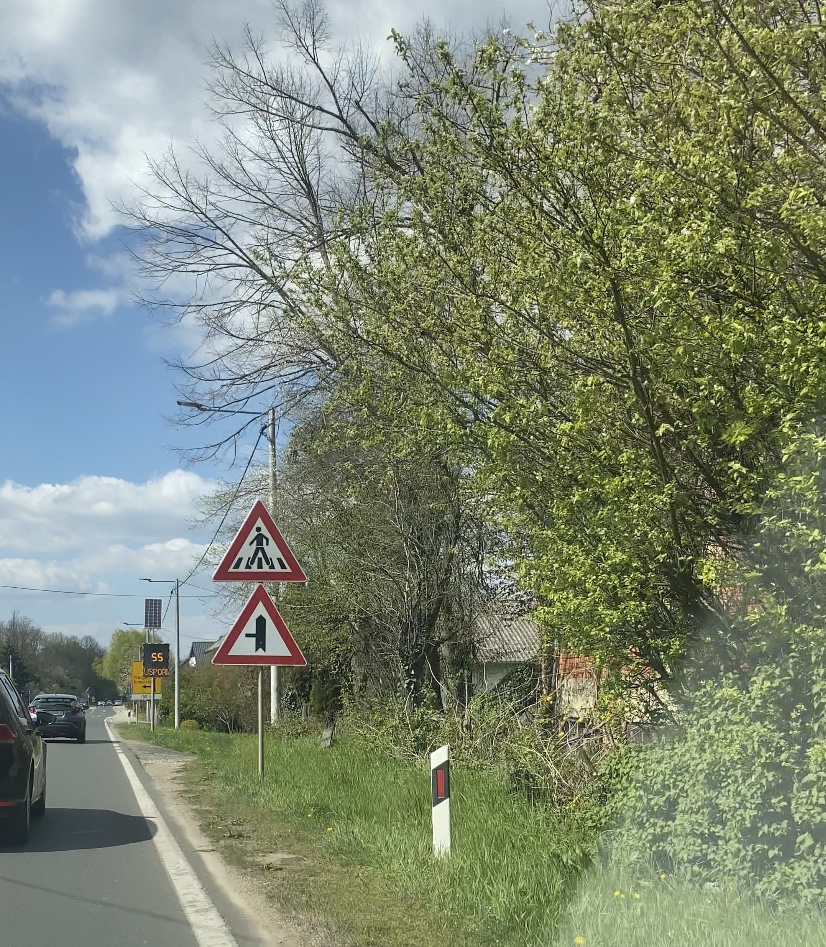Približavanje pješačkom prijelazu: (211, 498, 308, 582)
